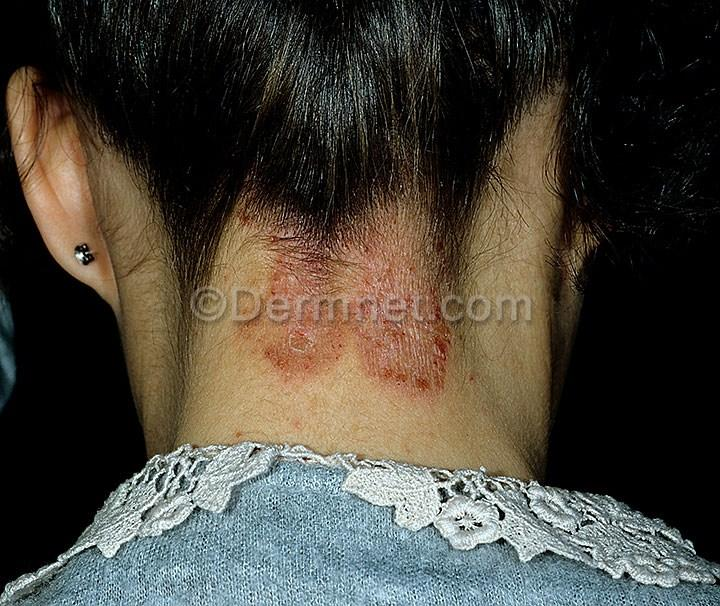Eczema: (234, 189, 461, 293), (241, 322, 469, 415)
